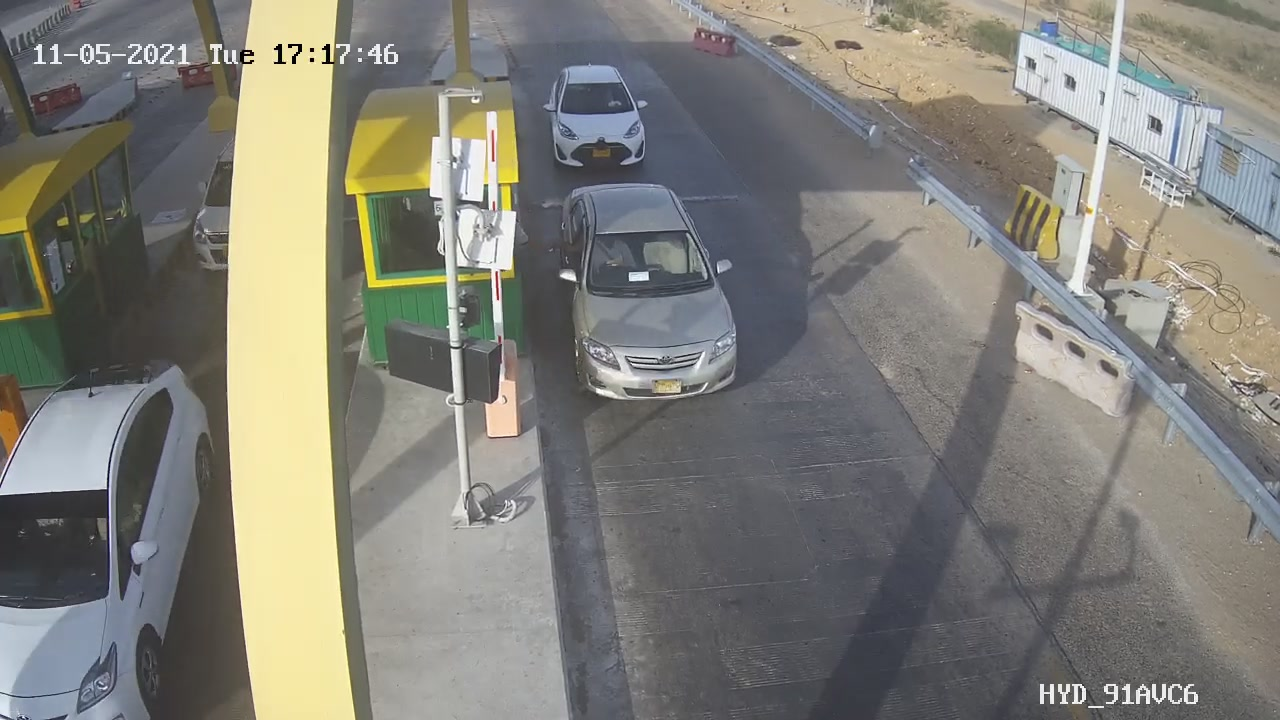F1: (538, 174, 761, 417), (527, 51, 666, 187)
